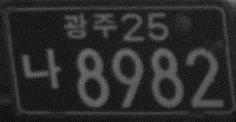2: (184, 45, 224, 109), (118, 9, 145, 42)
5: (146, 11, 169, 42)
8: (150, 47, 185, 110), (75, 48, 109, 108)
9: (112, 46, 146, 109)
광주_O: (63, 11, 116, 40)
나: (21, 48, 61, 90)
